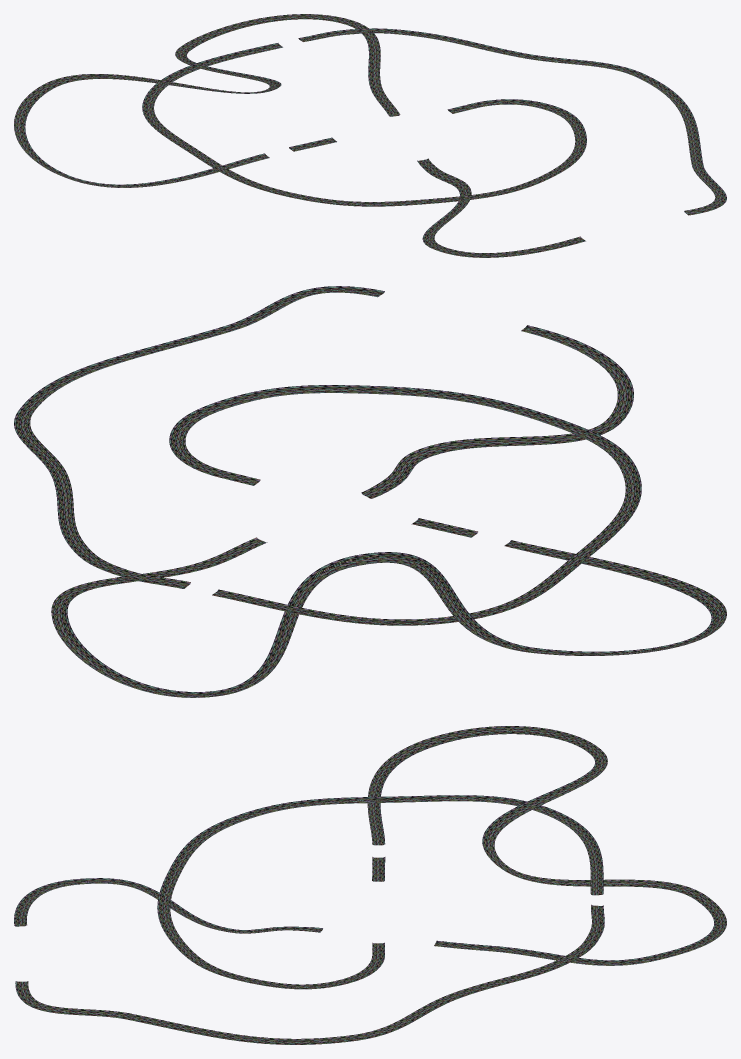
The model's file is ghost_road_trace.gltf.
3 views of the same model, one above another, from view 1: azimuth 30°, elevation 25°; view 2: azimuth 150°, elevation 25°; view 3: azimuth 270°, elevation 25° (orthographic). The views are drawn at different scales.
Parts seen in each view (by area): view 1: ghots_road.004, ghots_road.001, ghots_road.003, ghots_road.002; view 2: ghots_road.004, ghots_road.001, ghots_road.003, ghots_road.002; view 3: ghots_road.004, ghots_road.001, ghots_road.003, ghots_road.002.
Boxes of the visible parts, x1,y1,x2,y2 form: ghots_road.004: (14, 14, 400, 187); ghots_road.001: (142, 43, 586, 206); ghots_road.003: (298, 28, 726, 215); ghots_road.002: (417, 158, 585, 257); ghots_road.004: (51, 537, 726, 697); ghots_road.001: (169, 385, 641, 625); ghots_road.003: (14, 286, 384, 588); ghots_road.002: (361, 325, 633, 498); ghots_road.004: (367, 726, 726, 965); ghots_road.001: (157, 795, 603, 989); ghots_road.003: (15, 904, 604, 1044); ghots_road.002: (14, 878, 322, 933).
Size of the model in its own units: 773 by 60.93 by 775.
1 material, 1 textured.
